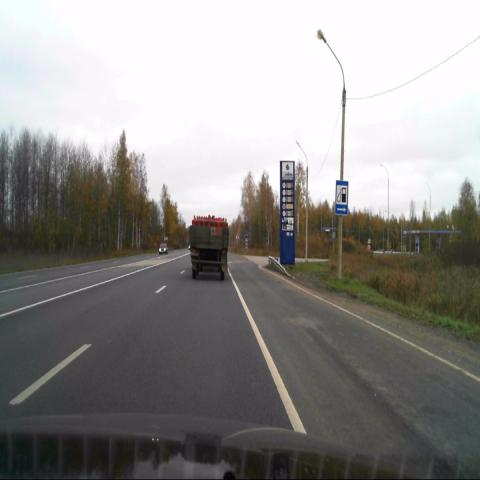7_3: (335, 181, 349, 215)
